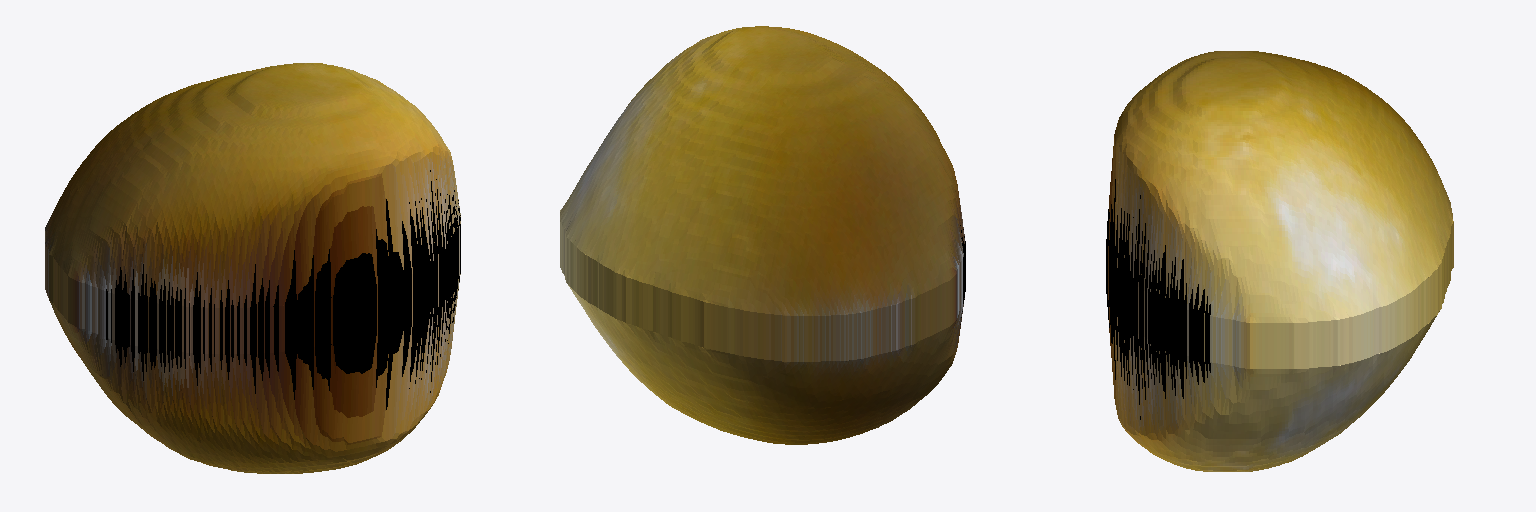
3 renders of one model, left to right at view 1: azimuth 30°, elevation 25°; view 2: azimuth 150°, elevation 25°; view 3: azimuth 270°, elevation 25°, orthographic.
Visible parts, largest first — view 1: Grid; view 2: Grid; view 3: Grid.
Boxes of the visible parts, box(x1,y1,x2,y2) form: Grid: box(45, 63, 460, 473); Grid: box(560, 26, 965, 444); Grid: box(1106, 51, 1453, 471).
Size of the model in its own units: 1.69 by 1.61 by 1.37.
1 materials, 1 textured.